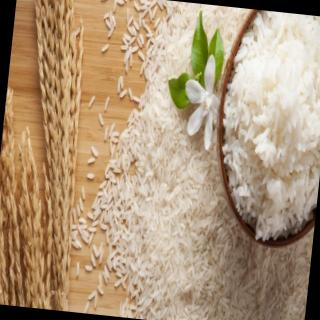Nasi: (209, 8, 320, 246)
